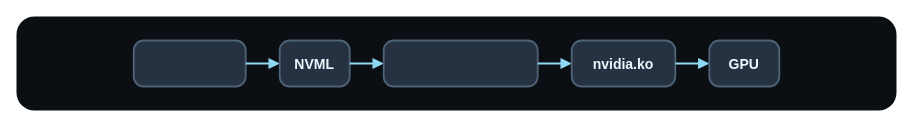
Image size: 913x127. Some labels were removed from this diagram. The box of each missing label's shape, as (x1, y1, x2, y2) in pixels:
libnvidia-ml.so: (382, 39, 538, 87)
nvidia-smi: (132, 39, 246, 87)
